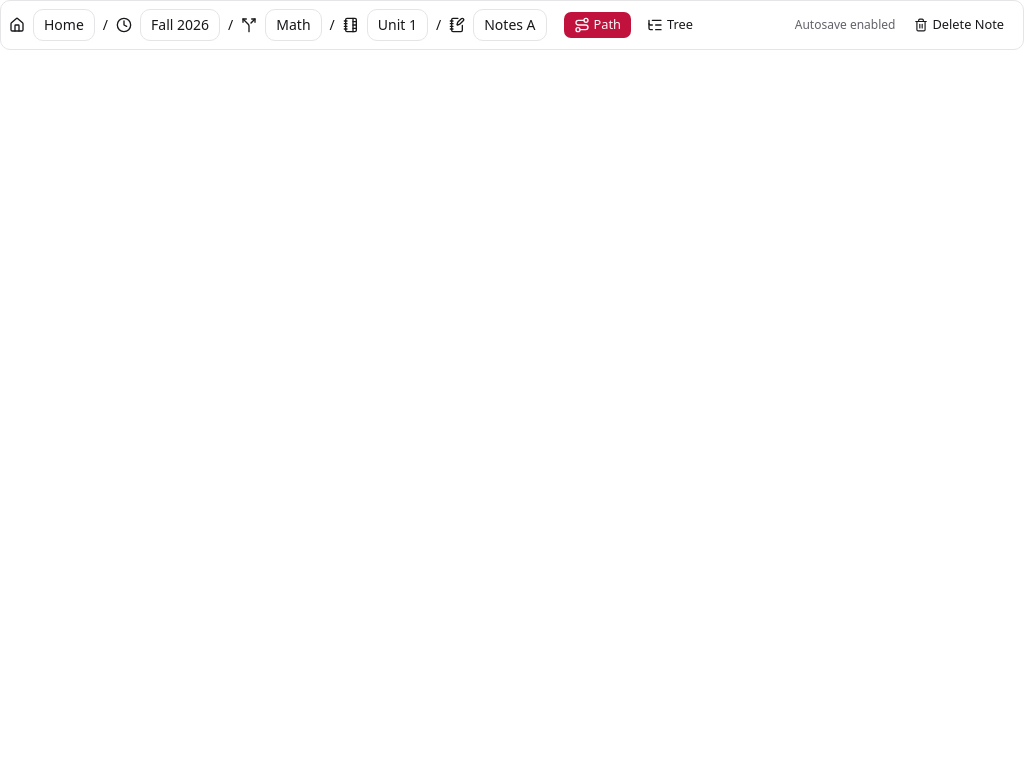
it: NotesLocationBar › says why when a note cannot be added to something shared to read
The width and height of the screenshot is (1024, 768).
Step 1. Click the button "Notes A" → (510, 25), box [473, 9, 547, 41]
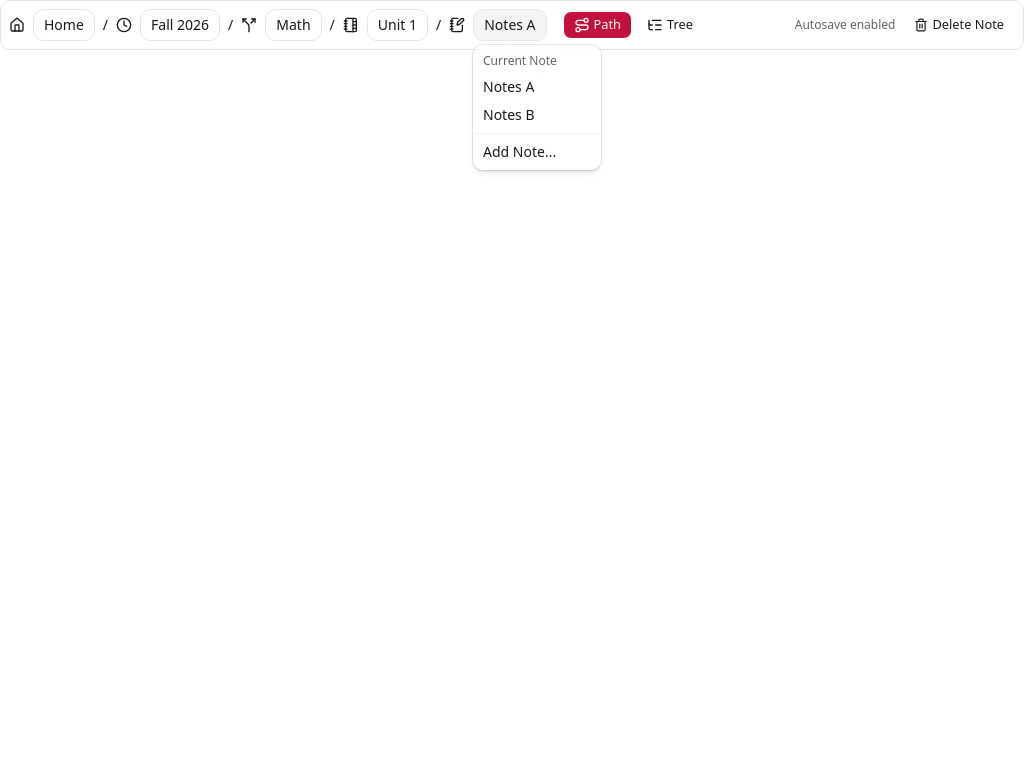
Step 2. Click the menu item "Add Note..." → (520, 152), box [483, 142, 556, 161]
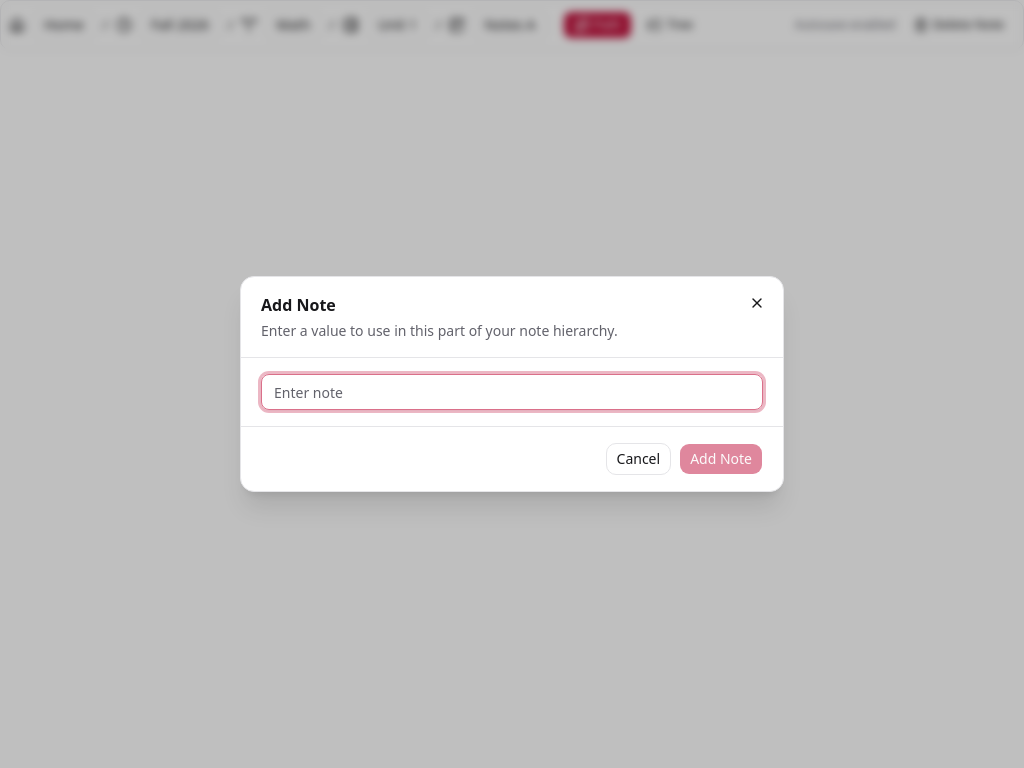
Step 3. Type "Sneaky" into the field with placeholder "Enter note" → (512, 392), box [261, 374, 763, 410]
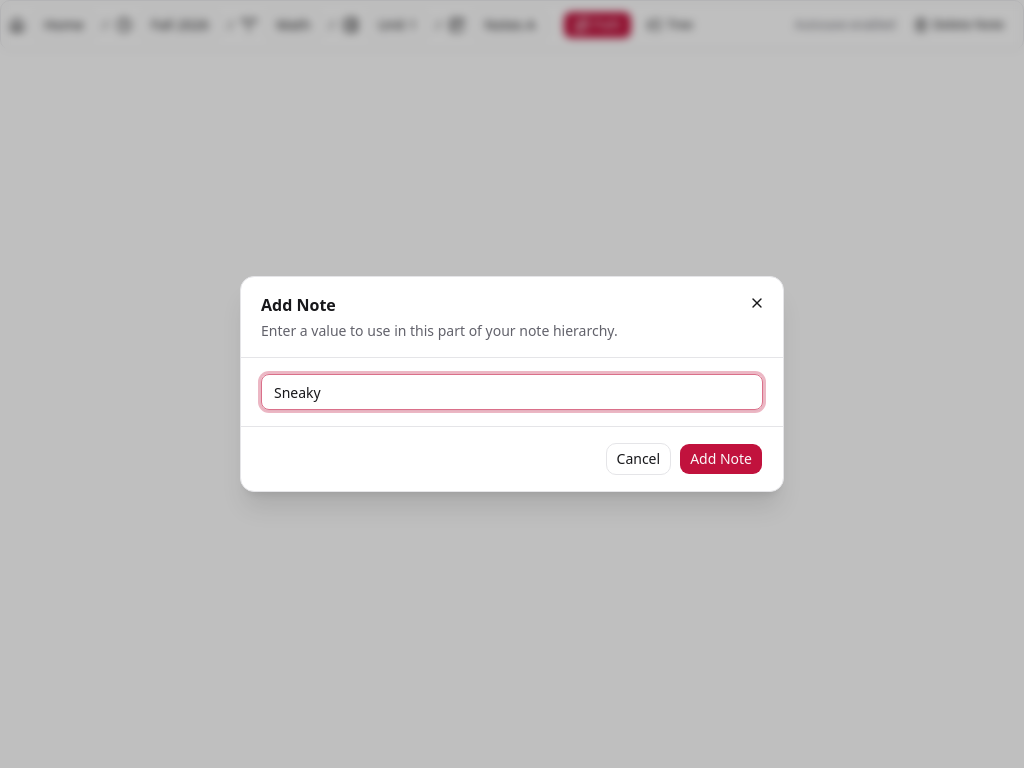
Step 4. Click the button "Add Note" → (721, 459), box [679, 443, 763, 475]
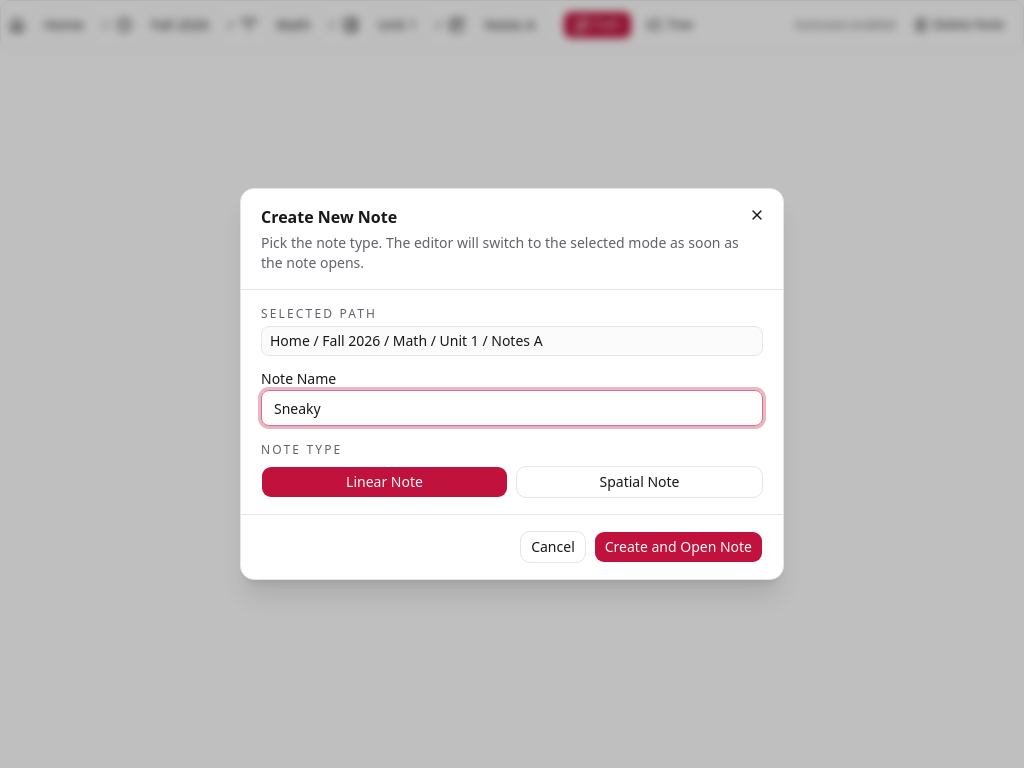
Step 5. Click the button "Create and Open Note" → (678, 547), box [594, 531, 763, 563]
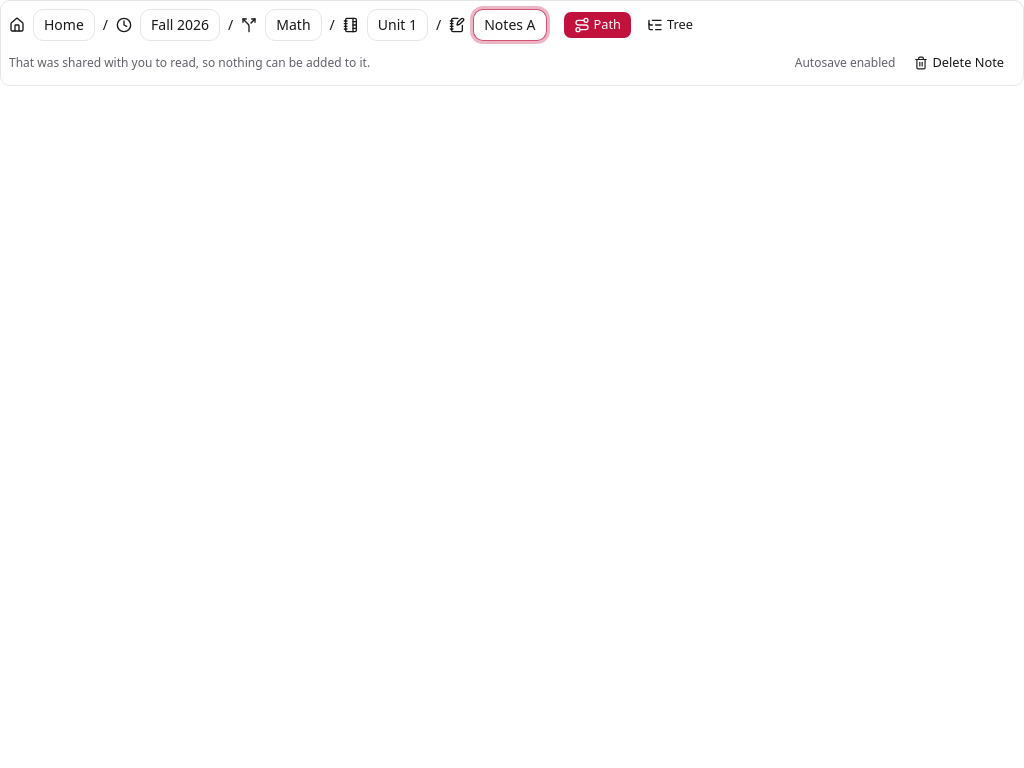
Now the message shows "shared with you to read", box [9, 54, 370, 71]
